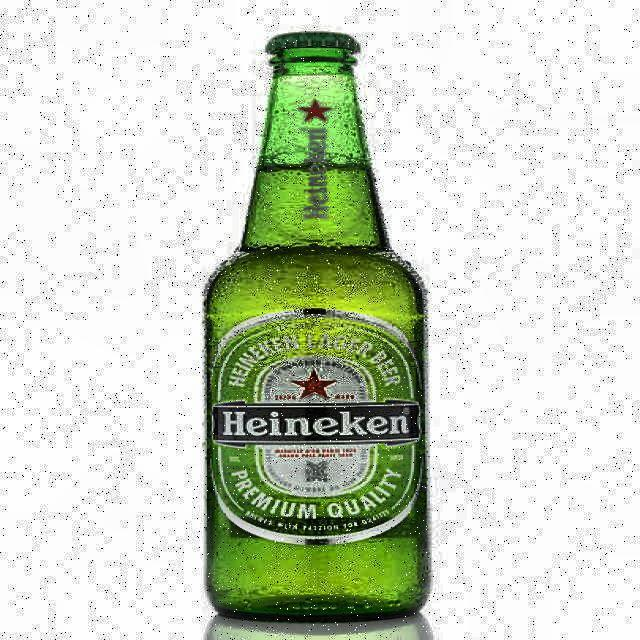glass: (204, 31, 431, 622)
